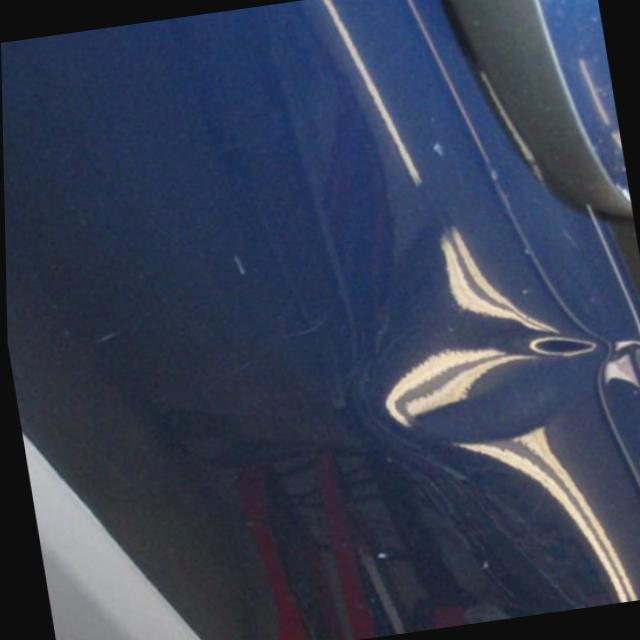Dent: (365, 307, 615, 459)
PDR-Dent: (371, 220, 610, 497)
